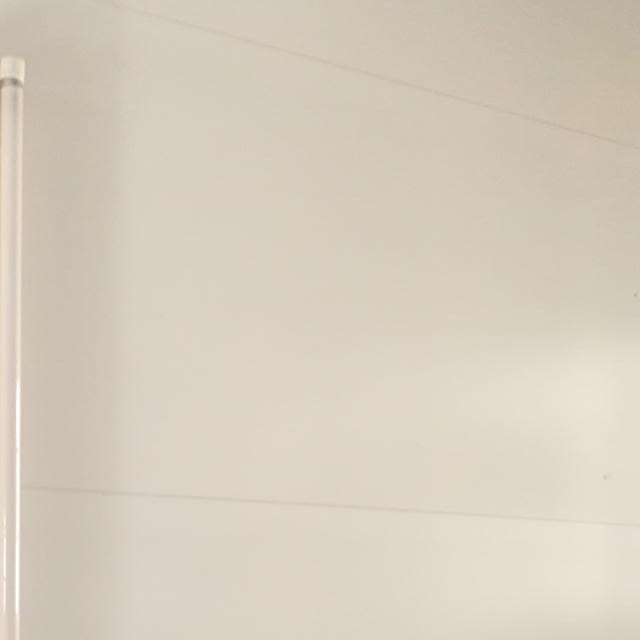fluorescent tube: (0, 35, 87, 640)
